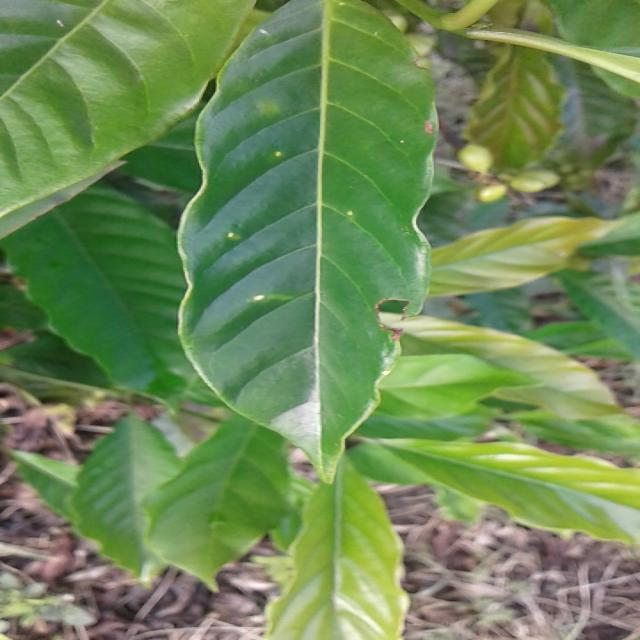Enfermedad-Roya: (178, 0, 438, 486)
